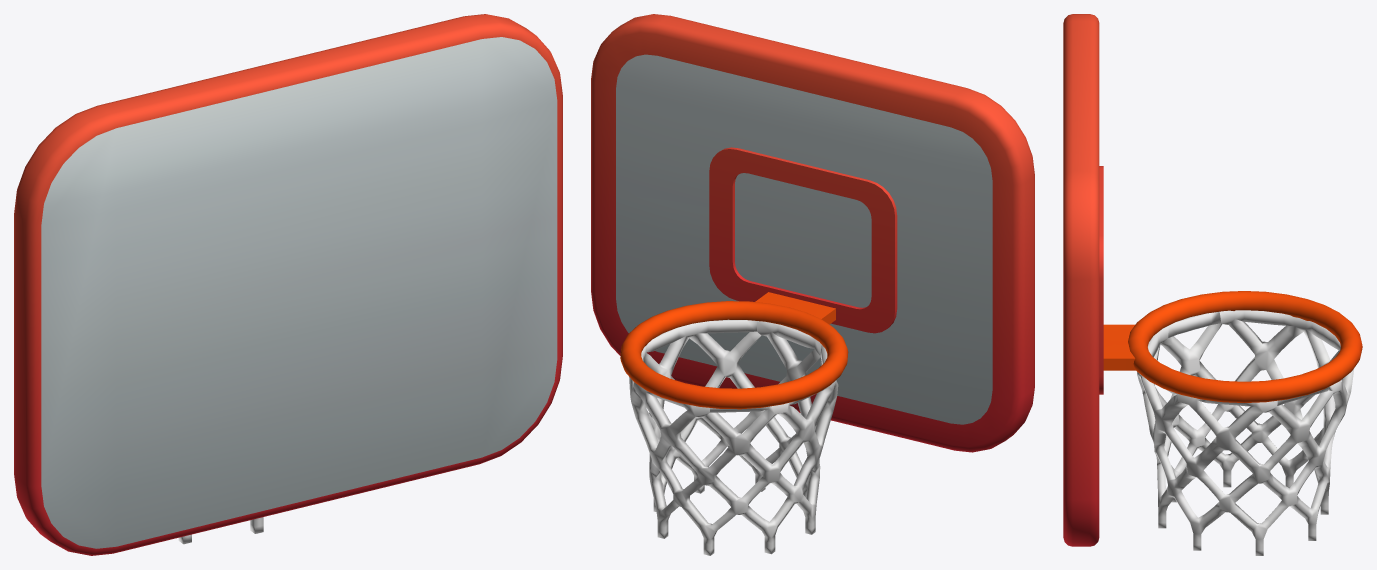
The model's file is Hoop.fbx.
3 views of the same model, side by side, from view 1: azimuth 30°, elevation 25°; view 2: azimuth 150°, elevation 25°; view 3: azimuth 270°, elevation 25° (orthographic). The views are drawn at different scales.
Visible parts, largest first — view 1: pCube19; view 2: pCube19, pTorus2.001, pTorus2; view 3: pTorus2.001, pCube19, pTorus2.
Boxes of the visible parts, x1,y1,x2,y2 form: pCube19: (14, 14, 562, 555); pCube19: (591, 14, 1034, 452); pTorus2.001: (629, 319, 838, 555); pTorus2: (620, 292, 848, 409); pTorus2.001: (1137, 310, 1353, 555); pCube19: (1063, 14, 1103, 546); pTorus2: (1103, 291, 1362, 402).
Size of the model in its own units: 3.81 by 3.44 by 2.2.
